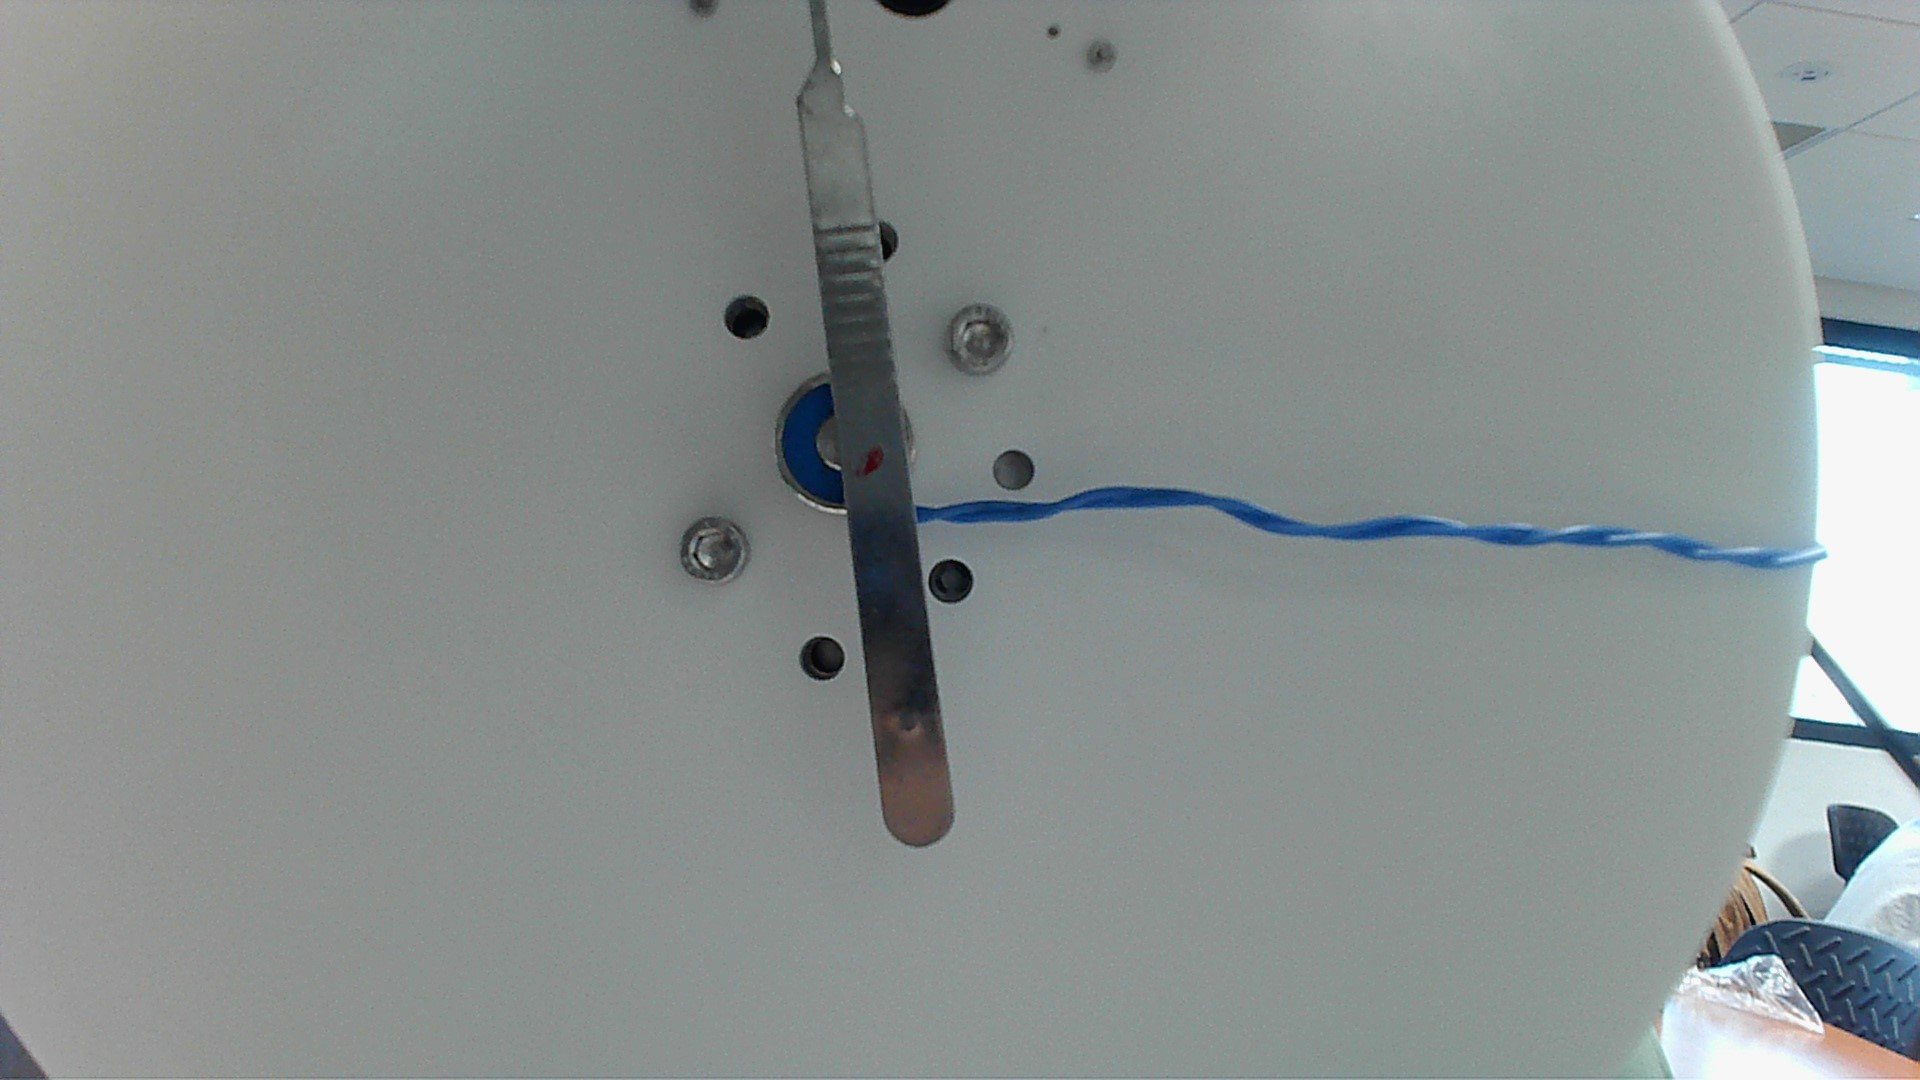Stain: (855, 440, 889, 473)
